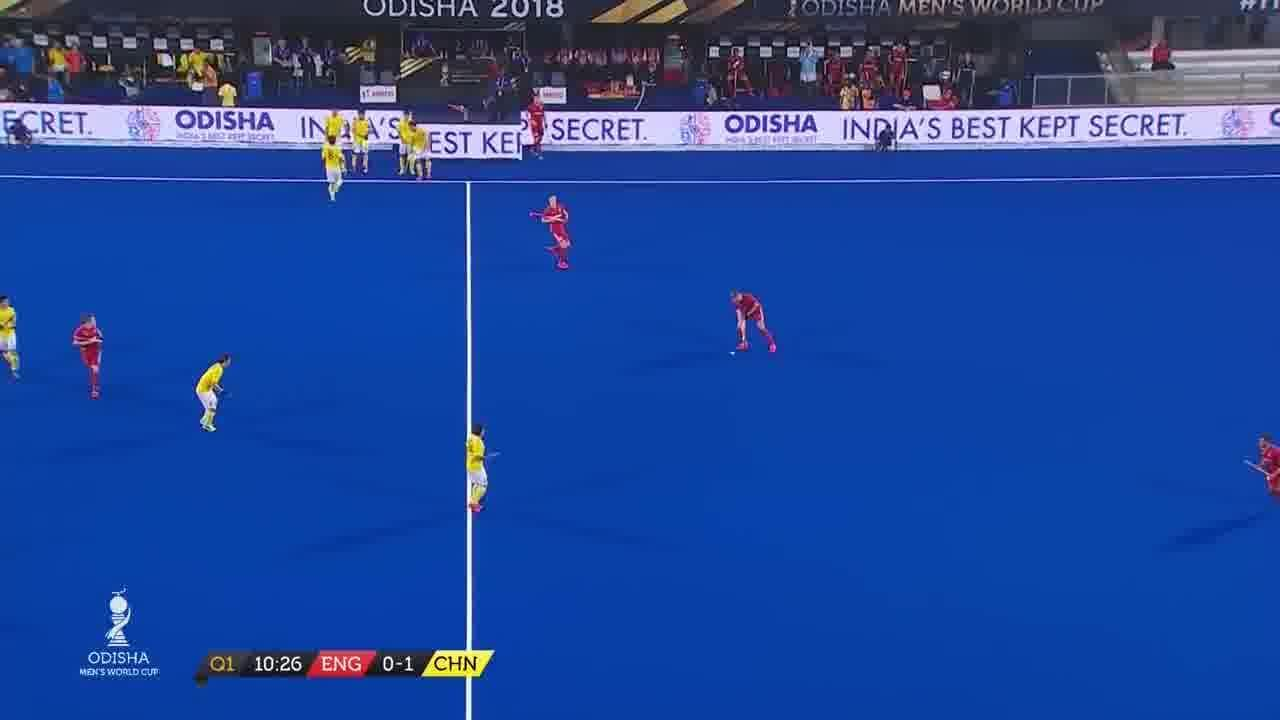ball: (731, 352, 736, 358)
